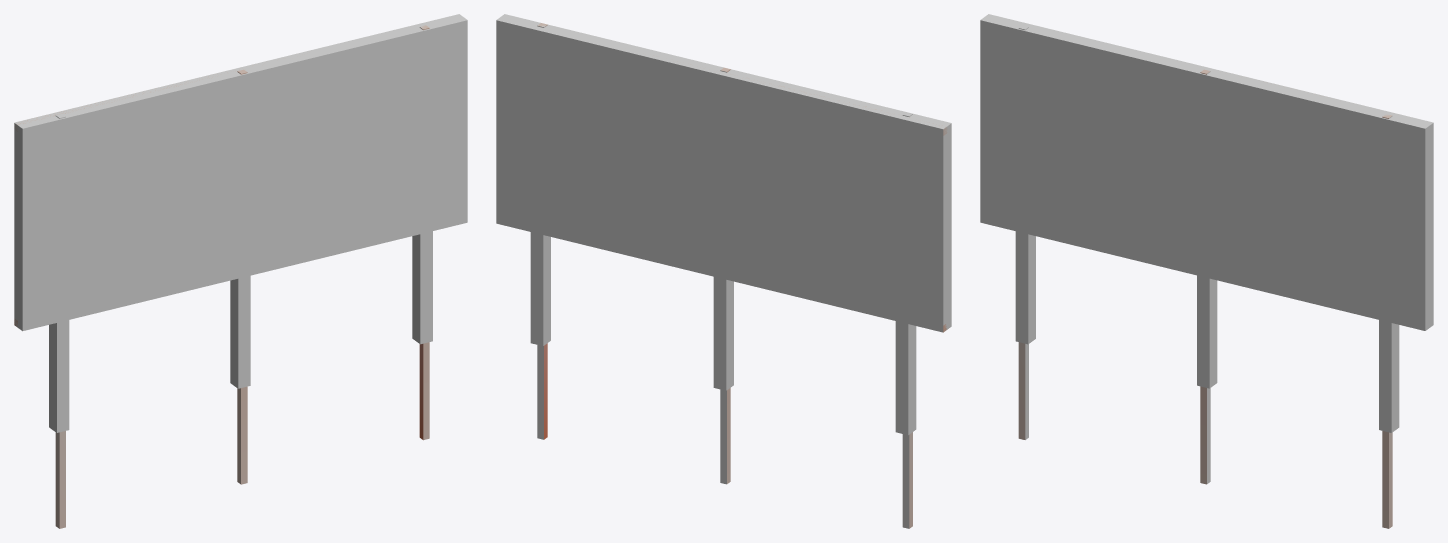
Rendered from billboard_10x5.dae.
3 views of the same model, side by side, from view 1: azimuth 30°, elevation 25°; view 2: azimuth 150°, elevation 25°; view 3: azimuth 330°, elevation 25° (orthographic).
Visible parts, largest first — view 1: Colmesh-1, billboard_10x5_a100; view 2: Colmesh-1, billboard_10x5_a100; view 3: Colmesh-1, billboard_10x5_a100.
Boxes of the visible parts, x1,y1,x2,y2 form: Colmesh-1: (14,14,467,432); billboard_10x5_a100: (14,25,429,528); Colmesh-1: (496,14,951,435); billboard_10x5_a100: (537,23,947,528); Colmesh-1: (980,14,1433,432); billboard_10x5_a100: (1018,25,1431,528).
Bounding box in the file's own units: 11.73 × 0.3851 × 10.34.
